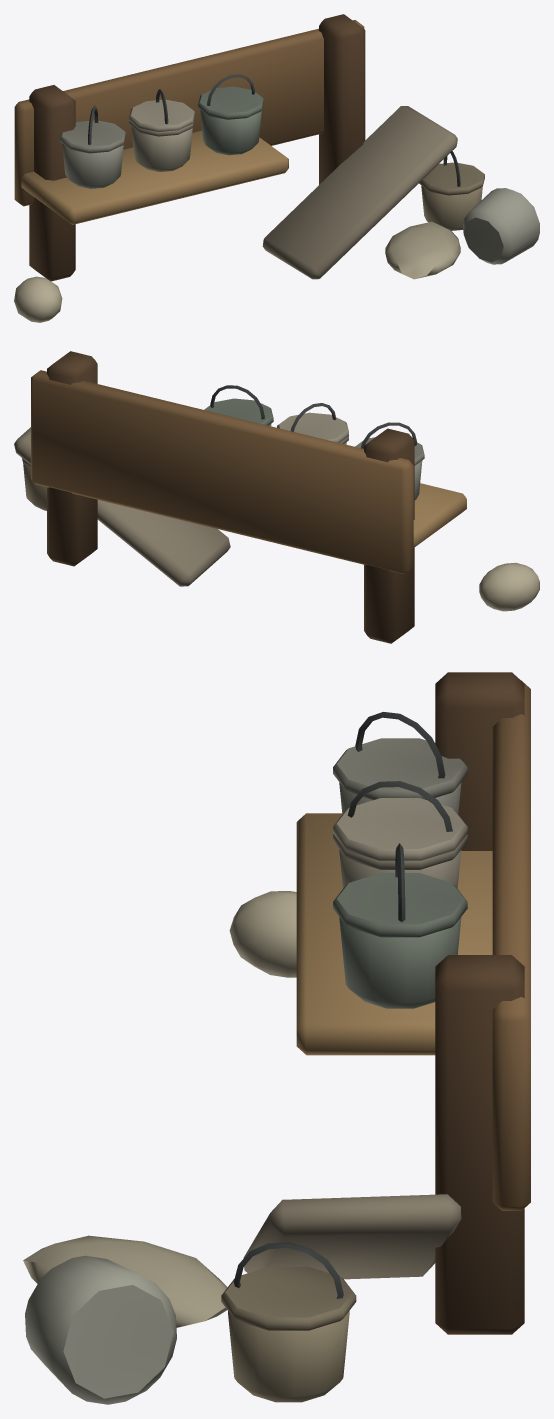
File: lunch_shelf_b.glb
The picture shows the model from 3 angles, top to bottom: view 1: azimuth 30°, elevation 25°; view 2: azimuth 150°, elevation 25°; view 3: azimuth 270°, elevation 25°; orthographic projection. The views are drawn at different scales.
Visible parts, largest first — view 1: Surface; view 2: Surface; view 3: Surface.
Part boxes in pixels (box(x1,y1,x2,y2)): Surface: box(14, 14, 539, 322); Surface: box(14, 351, 539, 643); Surface: box(23, 672, 530, 1404).
Bounding box in the file's own units: 3.39 × 1.36 × 1.59.
